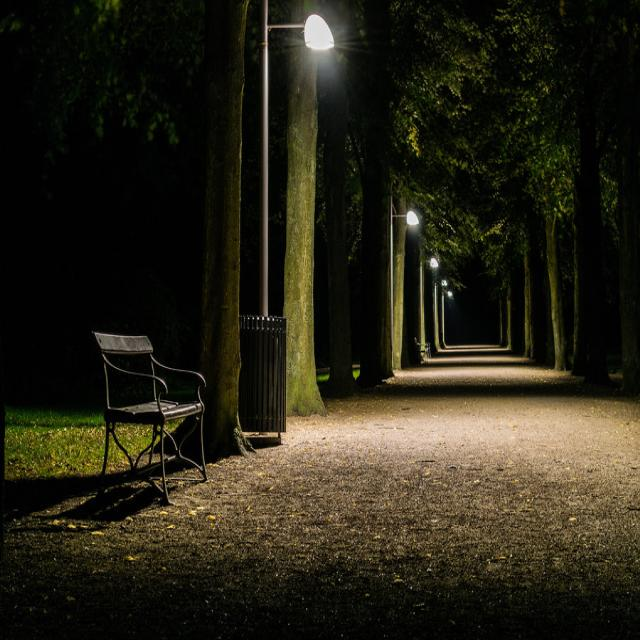chair: (97, 302, 239, 530), (407, 315, 440, 373)
